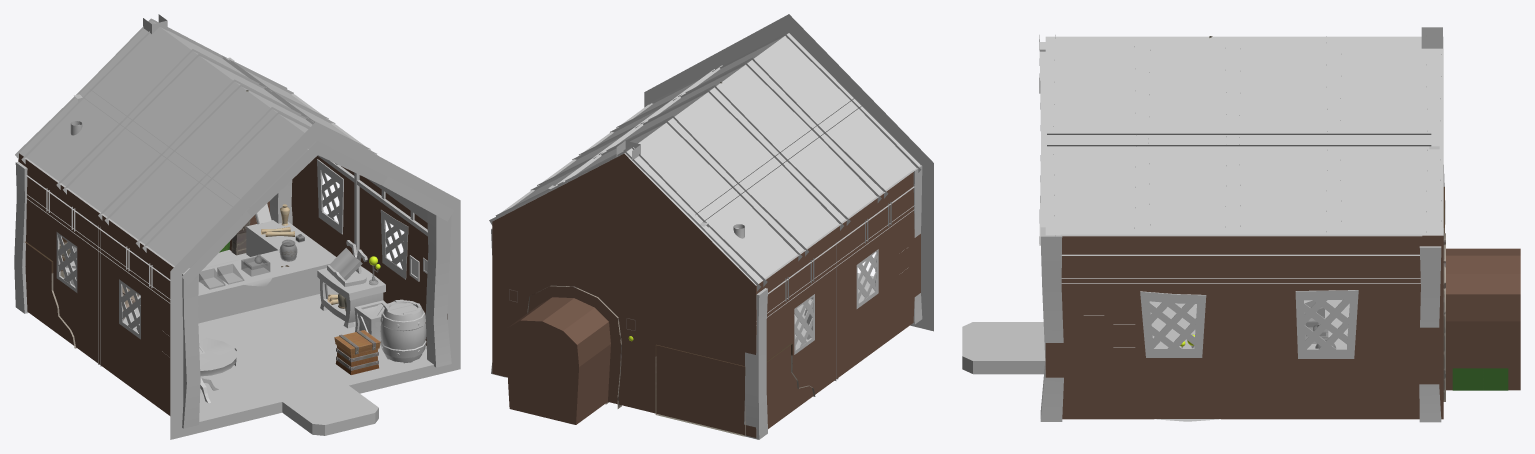
File: F_House_In_001.fbx
3 views of the same model, side by side, from view 1: azimuth 30°, elevation 25°; view 2: azimuth 150°, elevation 25°; view 3: azimuth 270°, elevation 25° (orthographic). The views are drawn at different scales.
Parts seen in each view (by area): view 1: House, WoodColumn, Counter, Carpet001, Cylinder012, Window001 (×2), Window002 (×2), Cupboard, WoodBox002, TableCloth002, Bookstand, WoodBox001 (+4 smaller); view 2: House, WoodColumn, Window002, Window001, StoneWall001; view 3: House, WoodColumn, Window001, Window002, Drawer, Carpet002.
Boxes of the visible parts, bbox=[...] form: House: bbox=[18, 20, 460, 439]; WoodColumn: bbox=[14, 14, 454, 428]; Counter: bbox=[198, 220, 336, 323]; Carpet001: bbox=[248, 301, 384, 366]; Cylinder012: bbox=[380, 299, 426, 363]; Window001 (×2): bbox=[56, 159, 343, 292]; Window002 (×2): bbox=[119, 210, 408, 339]; Cupboard: bbox=[317, 266, 385, 328]; WoodBox002: bbox=[334, 330, 380, 374]; TableCloth002: bbox=[200, 259, 272, 286]; Bookstand: bbox=[327, 240, 367, 286]; WoodBox001: bbox=[354, 300, 386, 345]; House: bbox=[492, 14, 933, 437]; WoodColumn: bbox=[489, 33, 922, 439]; Window002: bbox=[856, 249, 878, 308]; Window001: bbox=[794, 294, 814, 354]; StoneWall001: bbox=[655, 344, 745, 436]; House: bbox=[962, 36, 1520, 419]; WoodColumn: bbox=[1039, 27, 1445, 422]; Window001: bbox=[1295, 290, 1358, 358]; Window002: bbox=[1140, 291, 1206, 357]; Drawer: bbox=[1452, 368, 1508, 390]; Carpet002: bbox=[989, 329, 1025, 354].
Bounding box in the file's own units: 748 × 696 × 1033.
